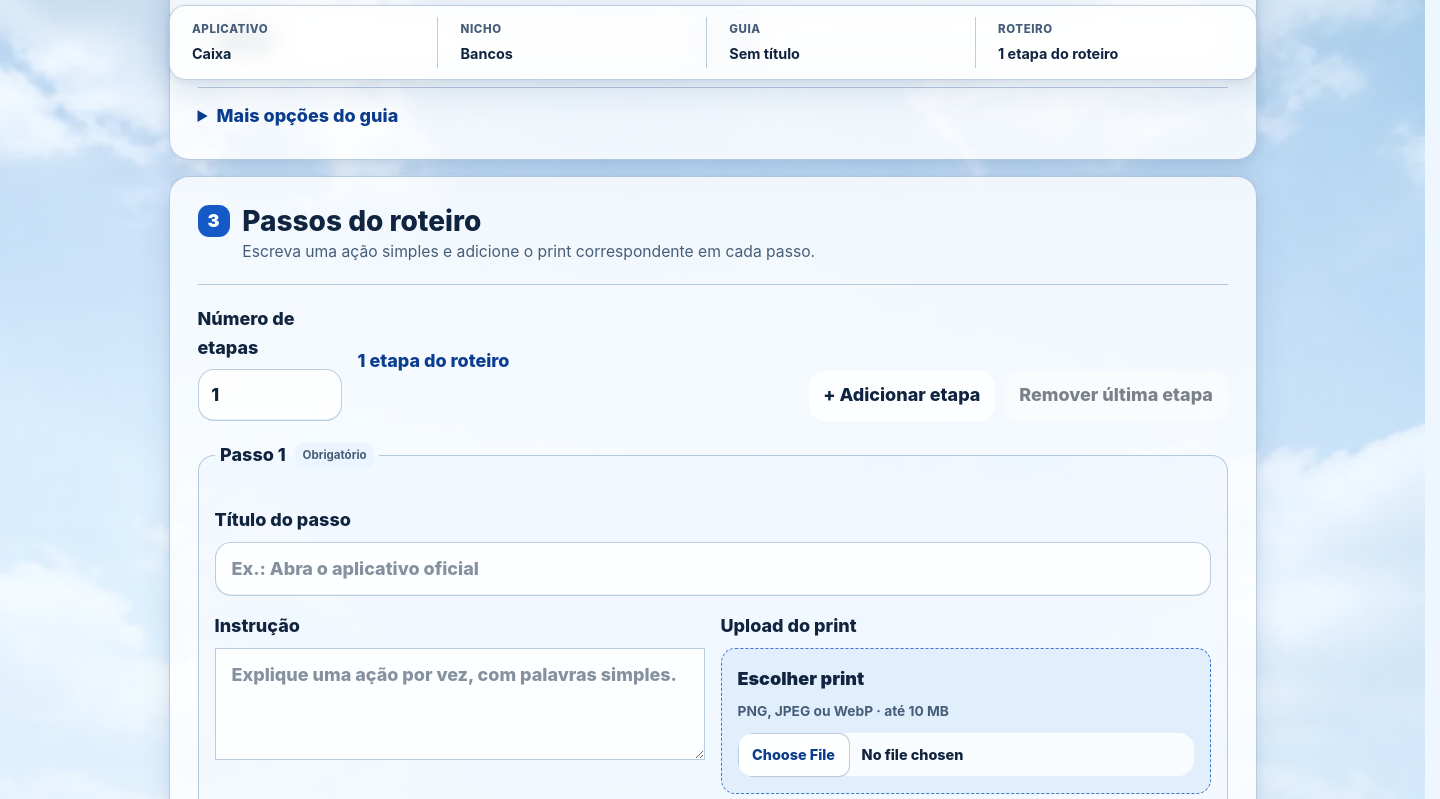
formulário de criação de guias › bloqueia quantidades fora de 1 a 50
(page scrolled)
Replace the text in the number field labelled "Número de etapas" with "0" at (270, 395), box [198,369,342,421]
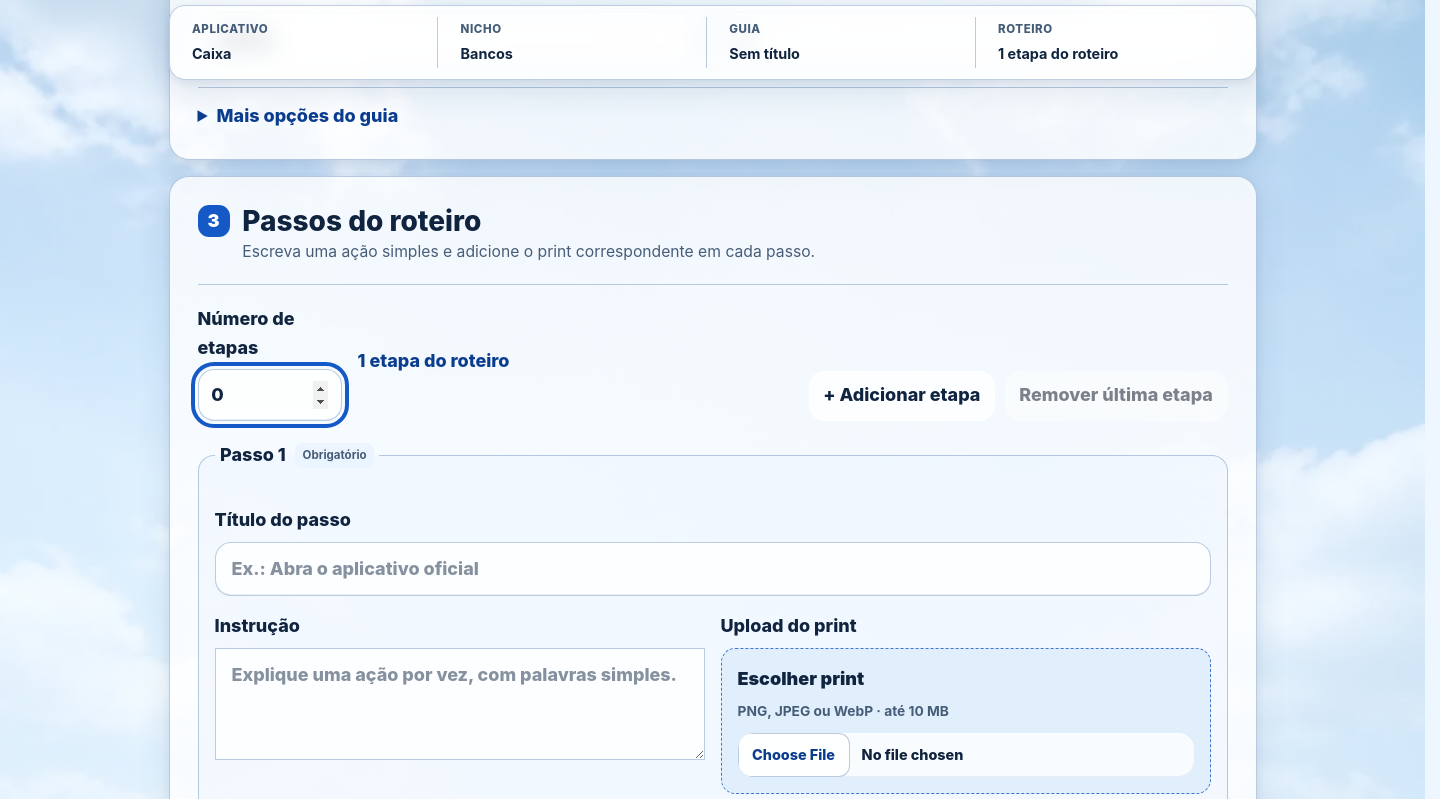
Press Tab
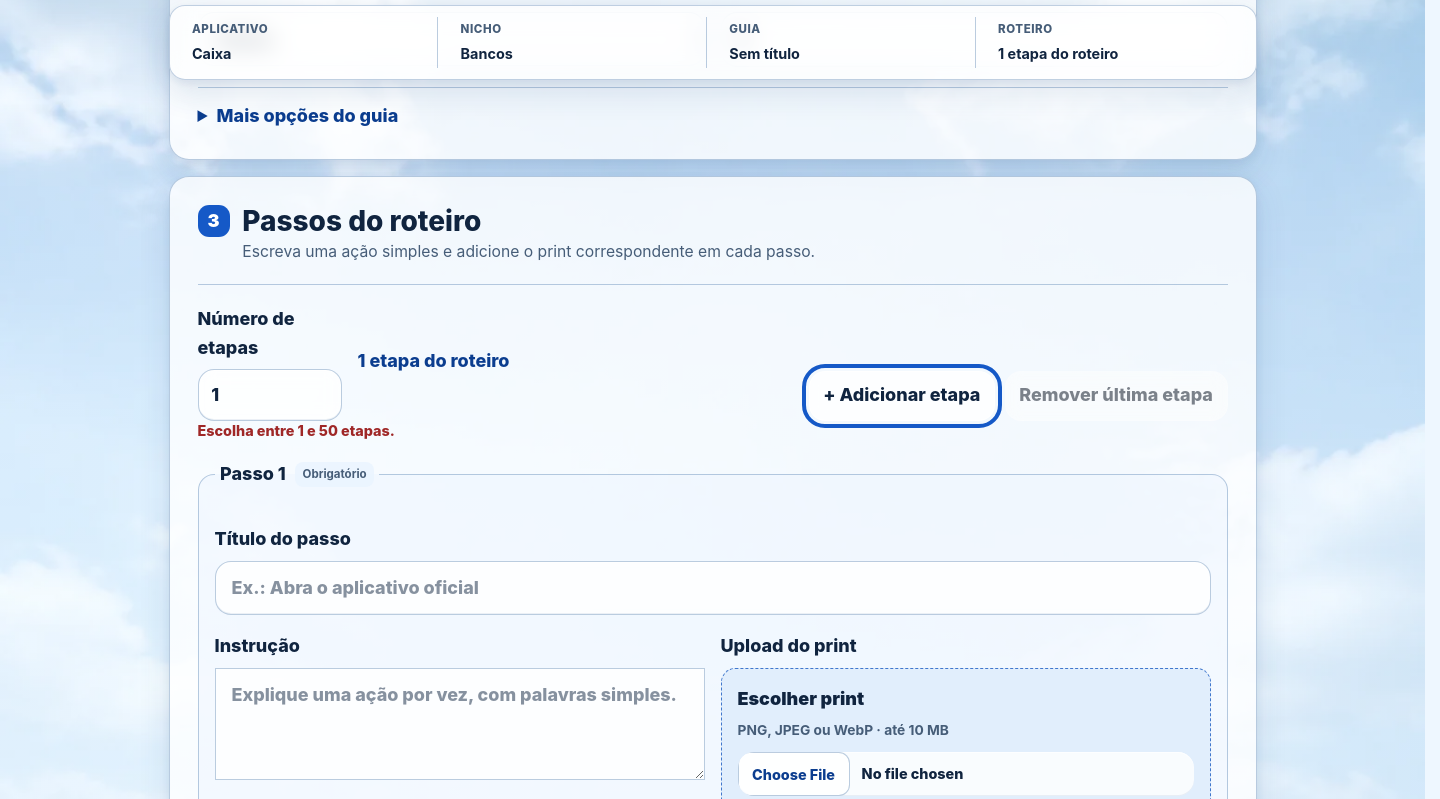
Check: the text "1 etapa do roteiro" in the row of "Sem título" is shown, box [998,45,1118,62]
Check: the text "Escolha entre 1 e 50 etapas." is shown, box [198,422,395,439]
Replace the text in the number field labelled "Número de etapas" with "51" at (270, 395), box [198,369,342,421]
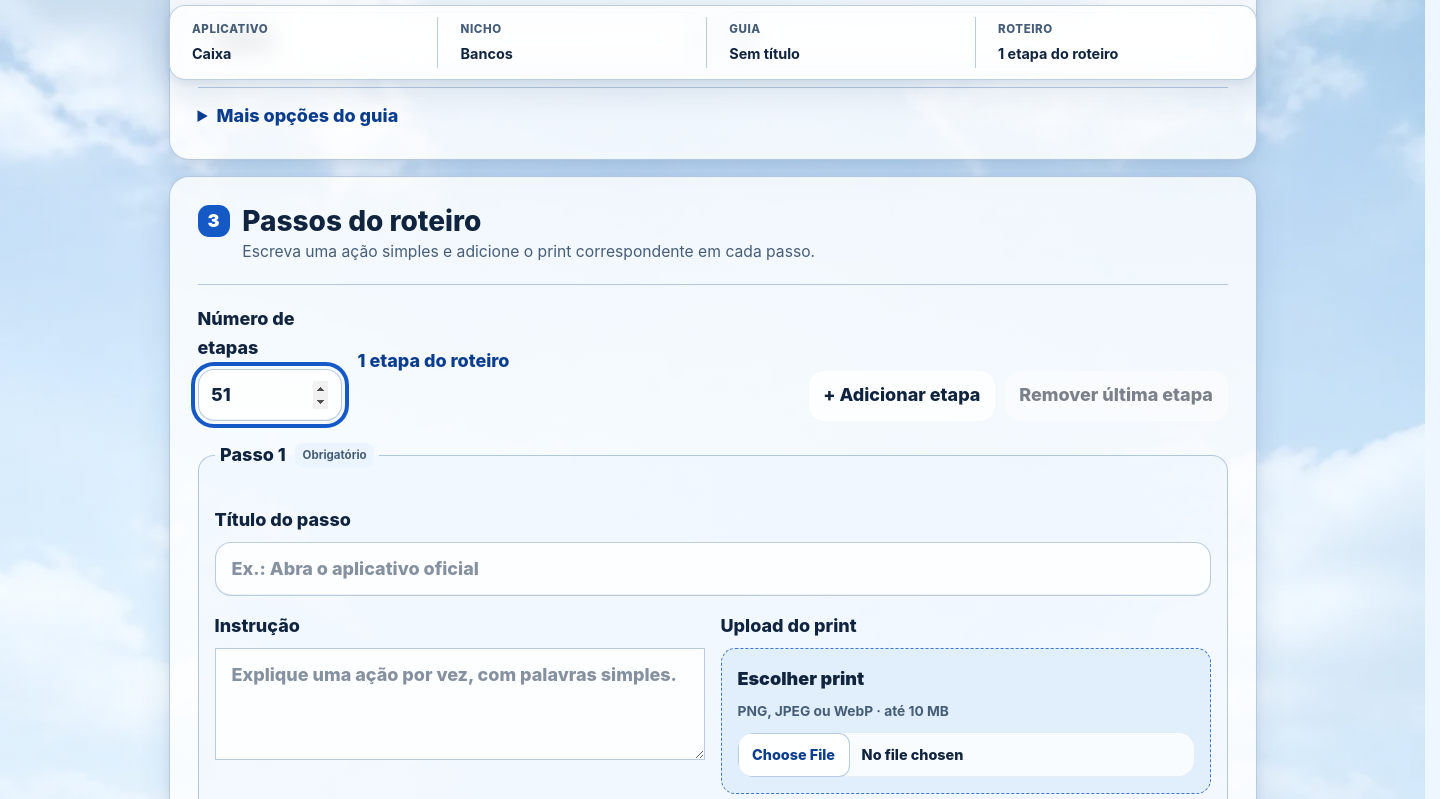
Press Tab
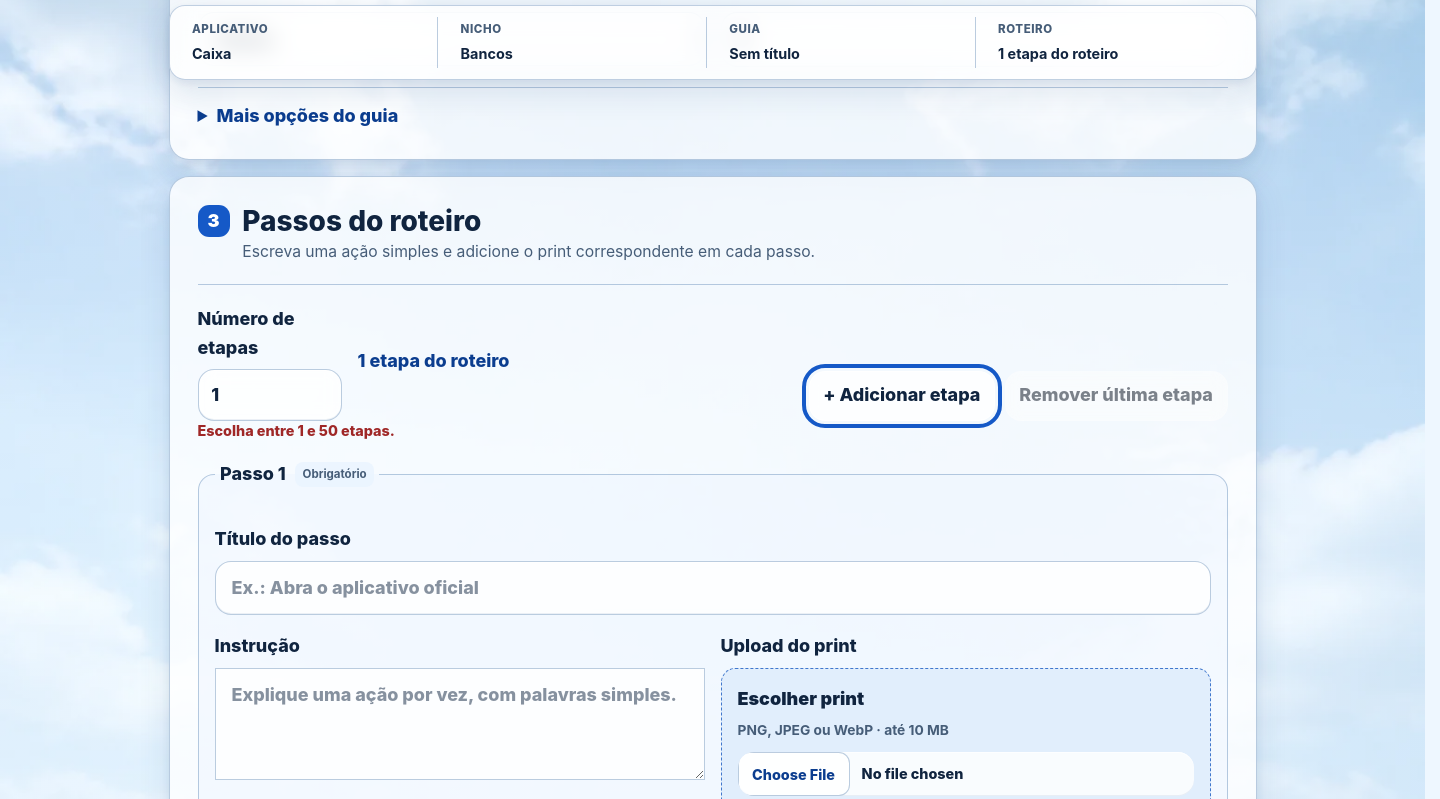
Check: the text "1 etapa do roteiro" in the row of "Sem título" is shown, box [998,45,1118,62]
Check: the text "Escolha entre 1 e 50 etapas." is shown, box [198,422,395,439]
